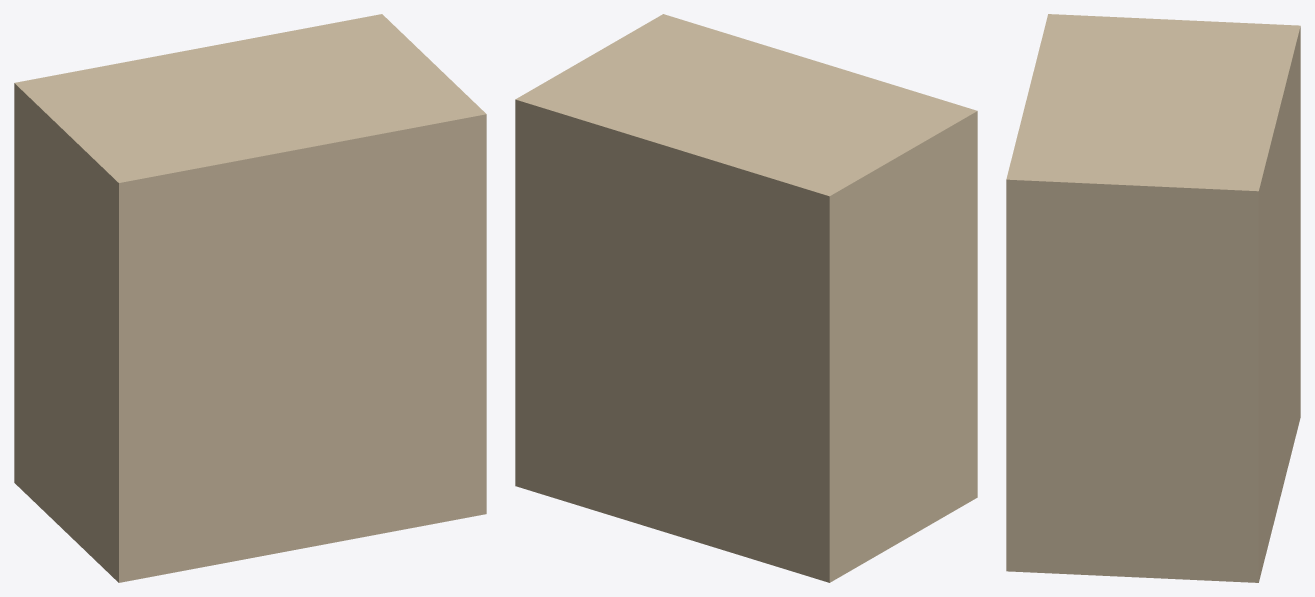
File: -24_-15-estimated-coarse.glb
3 renders of one model, left to right at view 1: azimuth 30°, elevation 25°; view 2: azimuth 150°, elevation 25°; view 3: azimuth 270°, elevation 25°, orthographic. The views are drawn at different scales.
Size of the model in its own units: 11.65 by 12 by 8.17.
